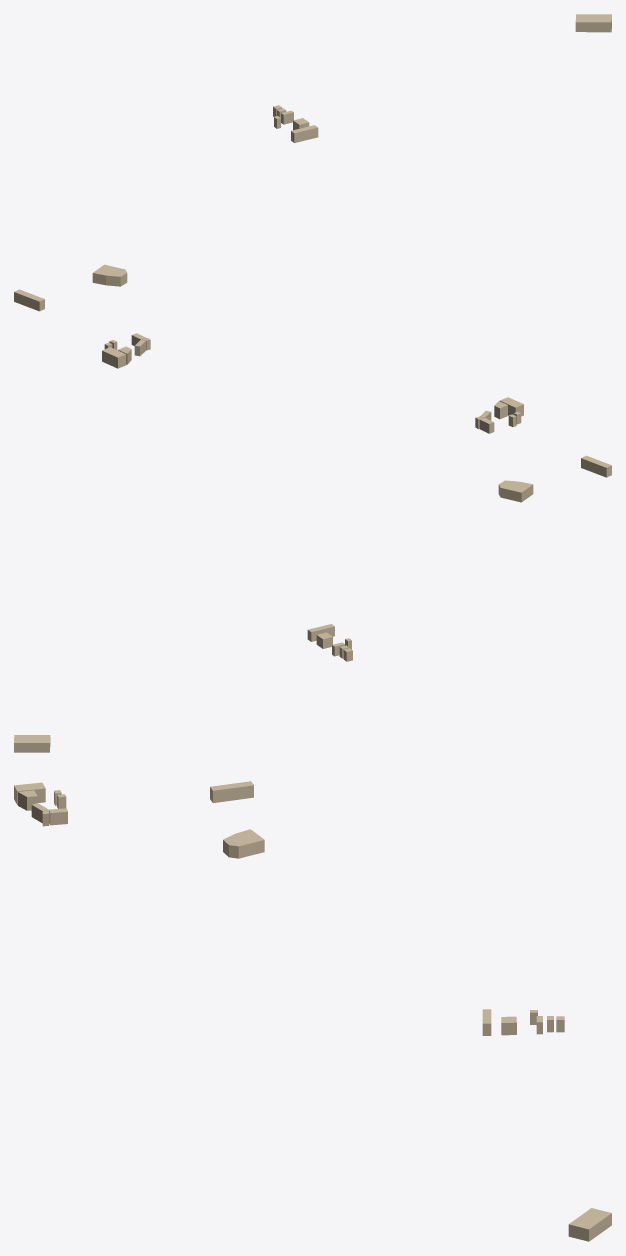
Rendered from -7_10-estimated-coarse.glb.
3 views of the same model, one above another, from view 1: azimuth 30°, elevation 25°; view 2: azimuth 210°, elevation 25°; view 3: azimuth 270°, elevation 25° (orthographic). The views are drawn at different scales.
Bounding box in the file's own units: 938 × 13.5 × 529.
